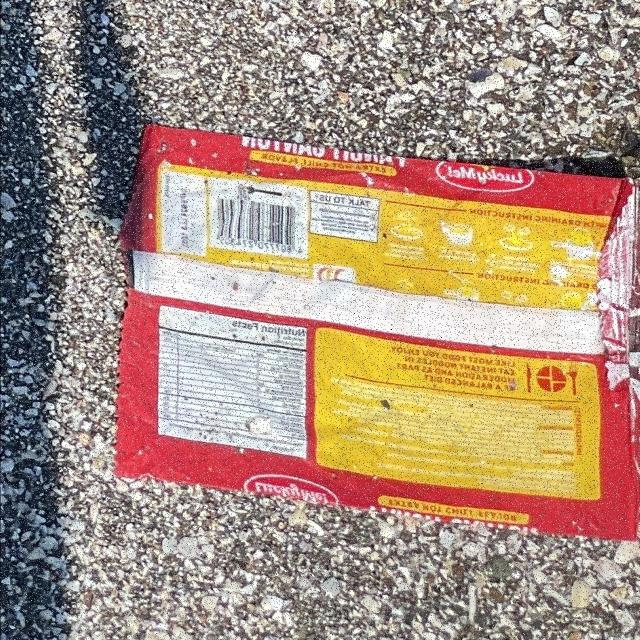plastic_waste: (109, 121, 640, 546)
